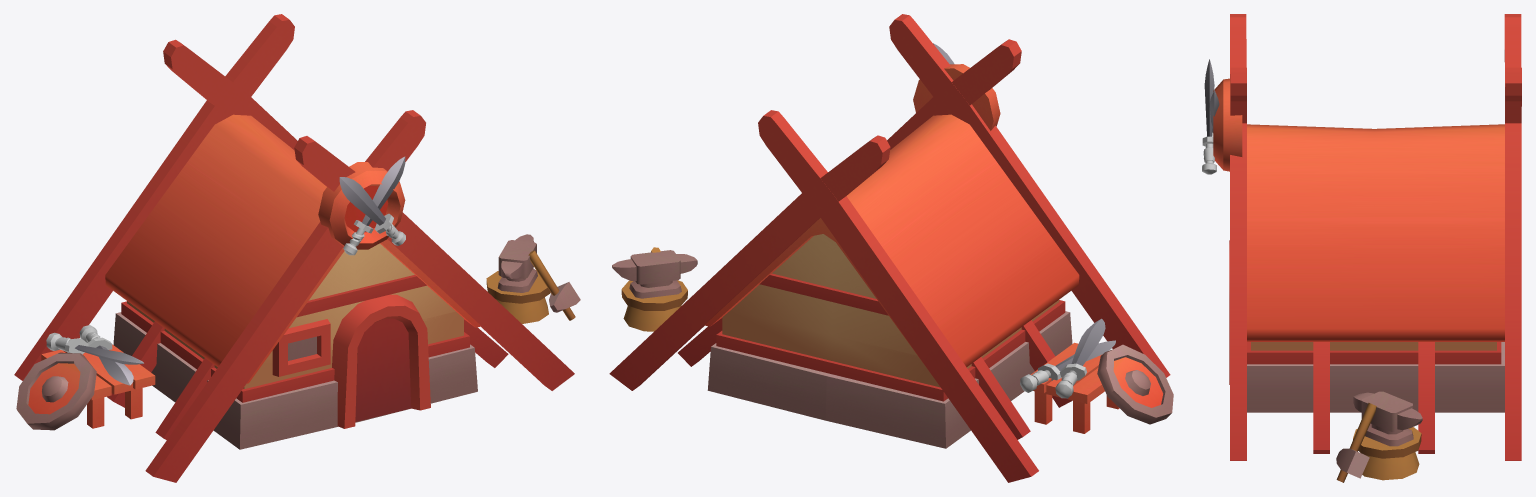
The model's file is SwordHouseV11.fbx.
The picture shows the model from 3 angles, left to right: view 1: azimuth 30°, elevation 25°; view 2: azimuth 150°, elevation 25°; view 3: azimuth 270°, elevation 25°; orthographic projection. The views are drawn at different scales.
Parts seen in each view (by area): view 1: Cube.202, Cube.182, Cube.205, Cube.201, Cube.207, Cube.204, Cylinder.075, Cube.203, Circle.008, Cube.206, Plane.053, Cube.209 (+7 smaller); view 2: Cube.182, Cube.202, Cube.207, Cube.203, Cube.205, Cylinder.075, Cube.206, Cube.204, Cube.208, Cube.209, Circle.009, Sword.006 (+2 smaller); view 3: Cube.202, Cube.182, Cube.203, Cube.204, Cube.206, Cube.208, Circle.009, Circle.008, Cylinder.071, Cube.207, Sword.005, Cube.205.
Boxes of the visible parts, <box> form: Cube.202: <box>105,114,480,383</box>; Cube.182: <box>113,243,477,449</box>; Cube.205: <box>145,110,425,482</box>; Cube.201: <box>332,294,430,428</box>; Cube.207: <box>14,14,294,380</box>; Cube.204: <box>294,136,574,390</box>; Cylinder.075: <box>16,352,96,430</box>; Cube.203: <box>163,39,297,150</box>; Circle.008: <box>318,162,405,249</box>; Cube.206: <box>107,319,508,439</box>; Plane.053: <box>272,319,330,376</box>; Cube.209: <box>41,344,155,428</box>; Cube.182: <box>707,234,1072,448</box>; Cube.202: <box>704,114,1079,375</box>; Cube.207: <box>758,110,1038,482</box>; Cube.203: <box>609,135,890,390</box>; Cube.205: <box>889,14,1170,377</box>; Cylinder.075: <box>1097,344,1173,424</box>; Cube.206: <box>678,318,1072,439</box>; Cube.204: <box>887,39,1021,149</box>; Cube.208: <box>612,250,697,298</box>; Cube.209: <box>1031,342,1119,433</box>; Circle.009: <box>621,280,687,331</box>; Sword.006: <box>1055,318,1105,398</box>; Cube.202: <box>1247,124,1504,341</box>; Cube.182: <box>1247,342,1504,412</box>; Cube.203: <box>1504,14,1521,460</box>; Cube.204: <box>1230,14,1246,460</box>; Cube.206: <box>1313,342,1434,453</box>; Cube.208: <box>1353,391,1422,446</box>; Circle.009: <box>1353,427,1421,480</box>; Circle.008: <box>1213,78,1242,171</box>; Cylinder.071: <box>1336,403,1376,482</box>; Cube.207: <box>1505,67,1521,123</box>; Sword.005: <box>1202,59,1216,174</box>; Cube.205: <box>1230,67,1246,123</box>.
Size of the model in its own units: 2.33 by 1.26 by 1.13.
